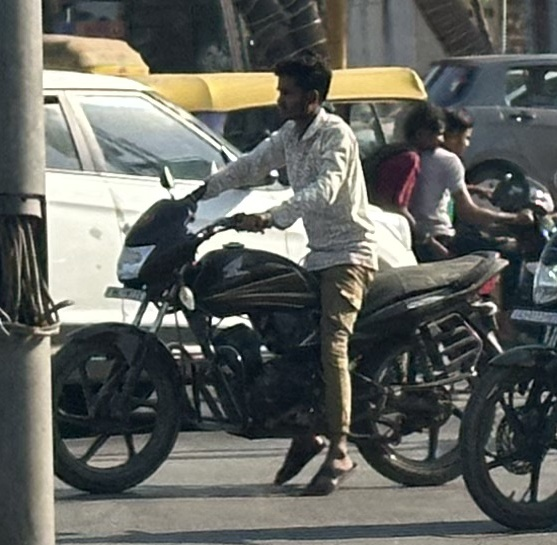BikeWithRider: (46, 41, 519, 503)
NoHelmet: (264, 43, 341, 128)
